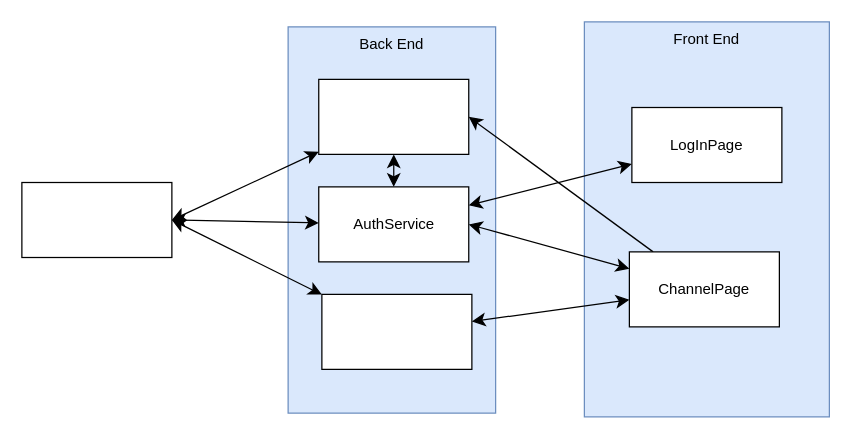
The diagram is 851 pixels wide and 439 high, and some of its shapes have lost their labels. The centre of each missing label's shape, as x and y in pixels:
AdminService: point (393, 116)
ChannelService: point (396, 331)
Database: point (96, 219)
